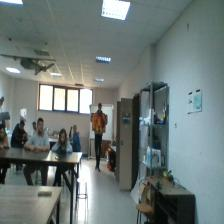fire-poster: (92, 114, 105, 132)
